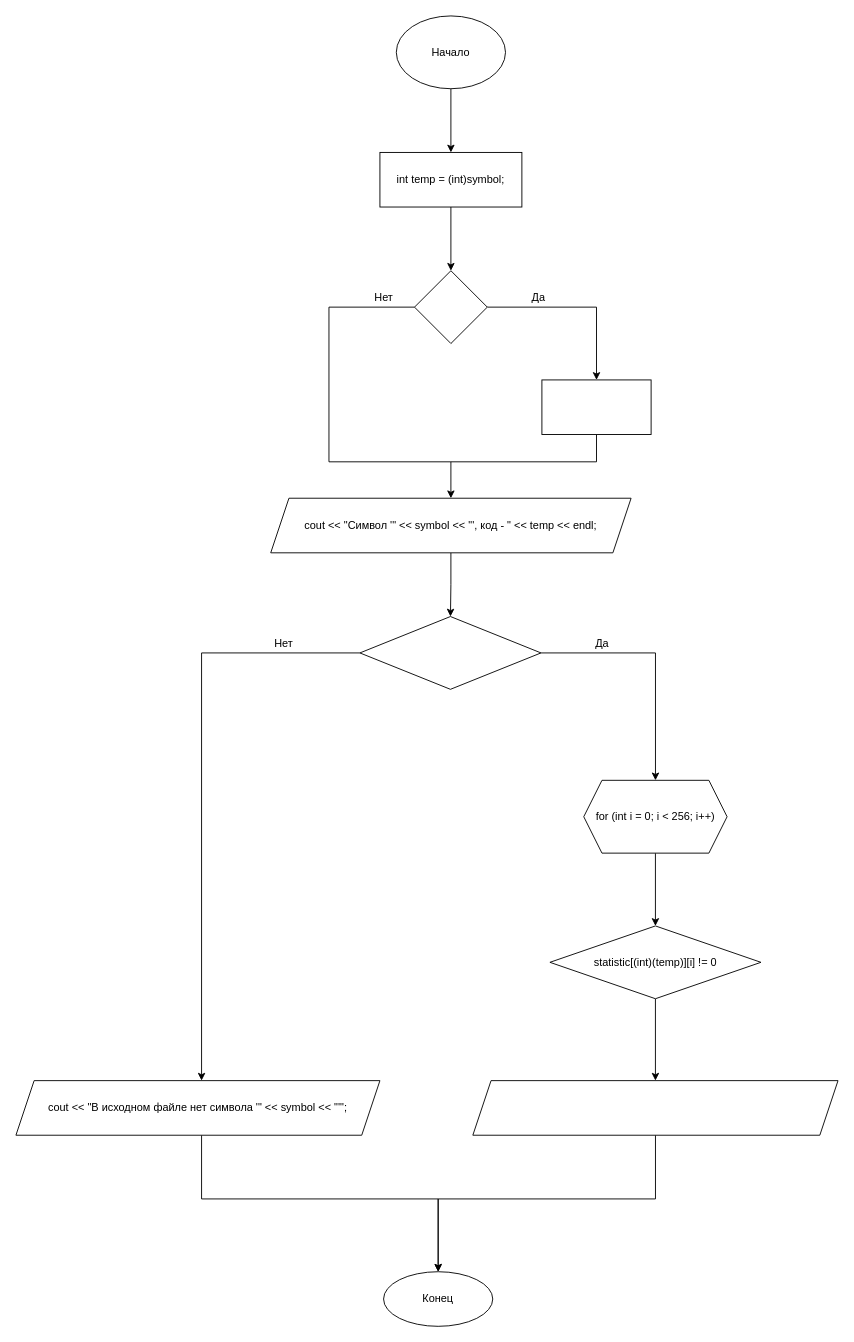
Image size: 854x1342. Some labels were removed from this diagram. The centre of each missing label's shape, as x and y in pixels:
cout << (char)(i) << " - " << statistic[temp][i] << endl;: [655,1107]
temp += 256: [596,407]
temp < 0: [450,307]
Сontains("input.txt", symbol): [450,652]
